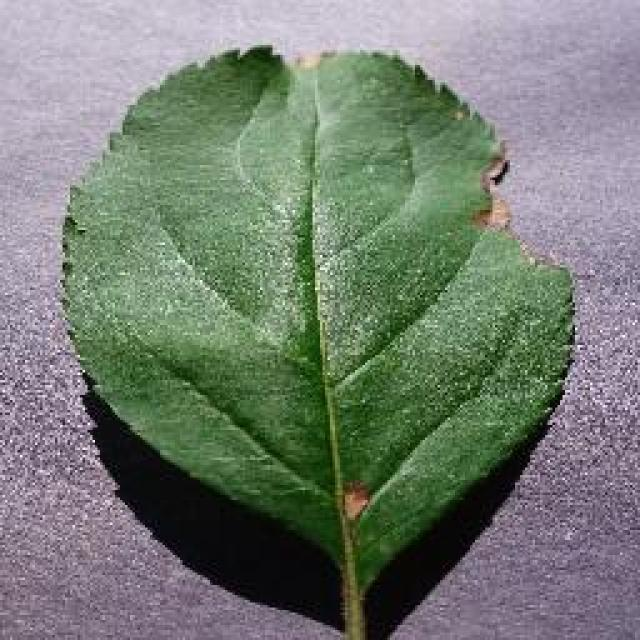Apple___Black_rot: (55, 37, 581, 603)
